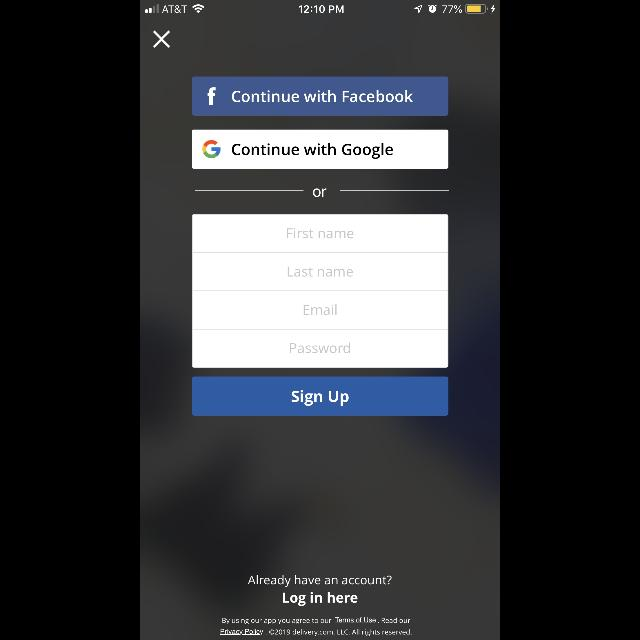icon: (154, 30, 170, 48)
input: (192, 252, 448, 292), (192, 290, 448, 330), (192, 214, 448, 253), (192, 329, 448, 368)
text: (220, 616, 412, 636), (248, 575, 392, 587), (282, 592, 358, 606), (290, 342, 350, 353), (287, 228, 353, 238), (288, 267, 352, 277), (304, 304, 336, 316), (314, 189, 326, 197)
textbutton: (192, 376, 448, 416), (192, 76, 448, 115), (192, 130, 448, 168)
uppertaskbar: (140, 0, 500, 14)
